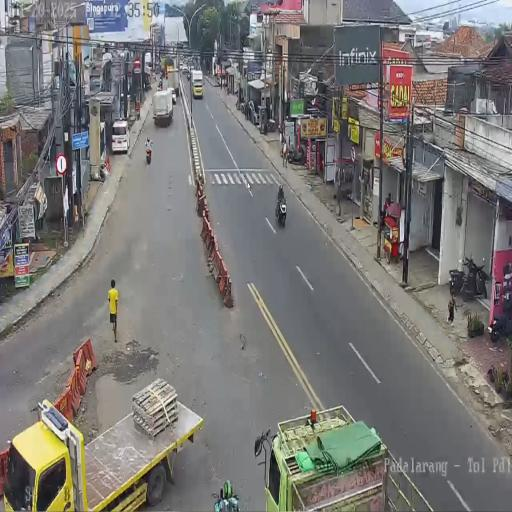car: (111, 118, 130, 154), (190, 68, 204, 100), (181, 64, 190, 78)
motorcycle: (448, 252, 488, 300), (490, 310, 512, 343), (287, 145, 305, 165)
truck: (152, 88, 174, 126), (166, 67, 180, 98), (144, 51, 152, 86)
